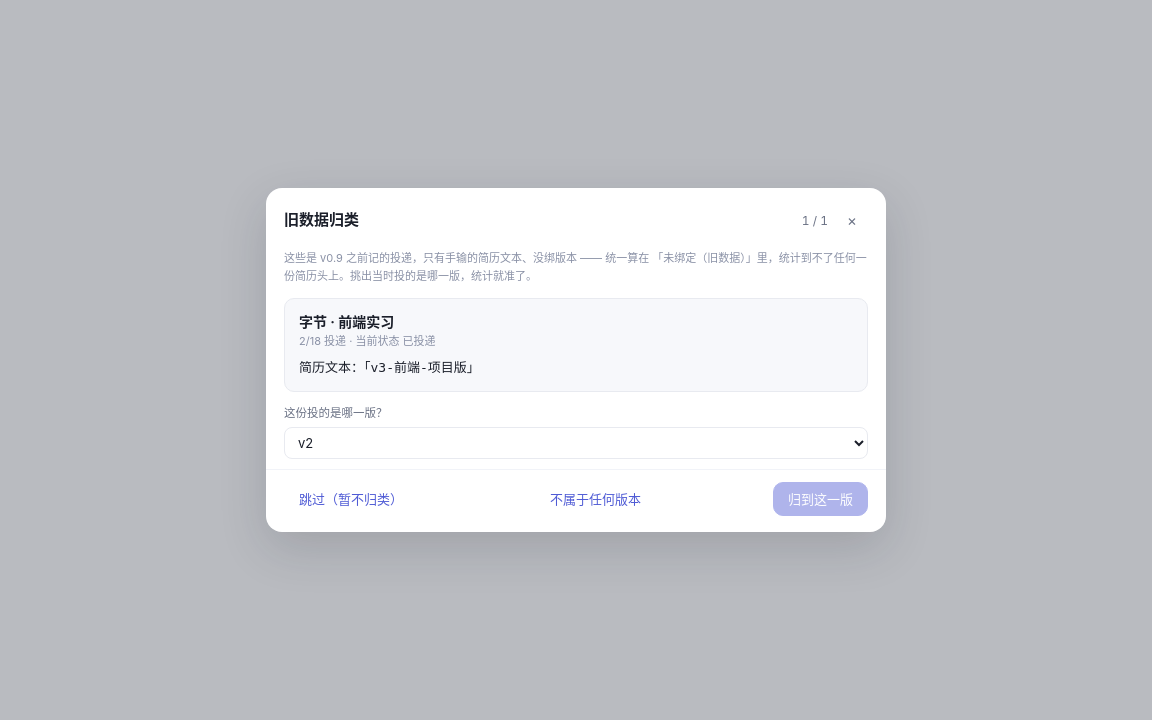
LegacyBindPanel（jsdom） › 归类前告知「显示会变成什么」：选中后写出目标版本名与原文本（F9 后的告知，不是静默覆盖）
Expected: the text "不再显示" is not shown
Select "v2" in the dropdown named "选择这一条投递对应的简历版本" at [576, 443], box [284,427,868,459]
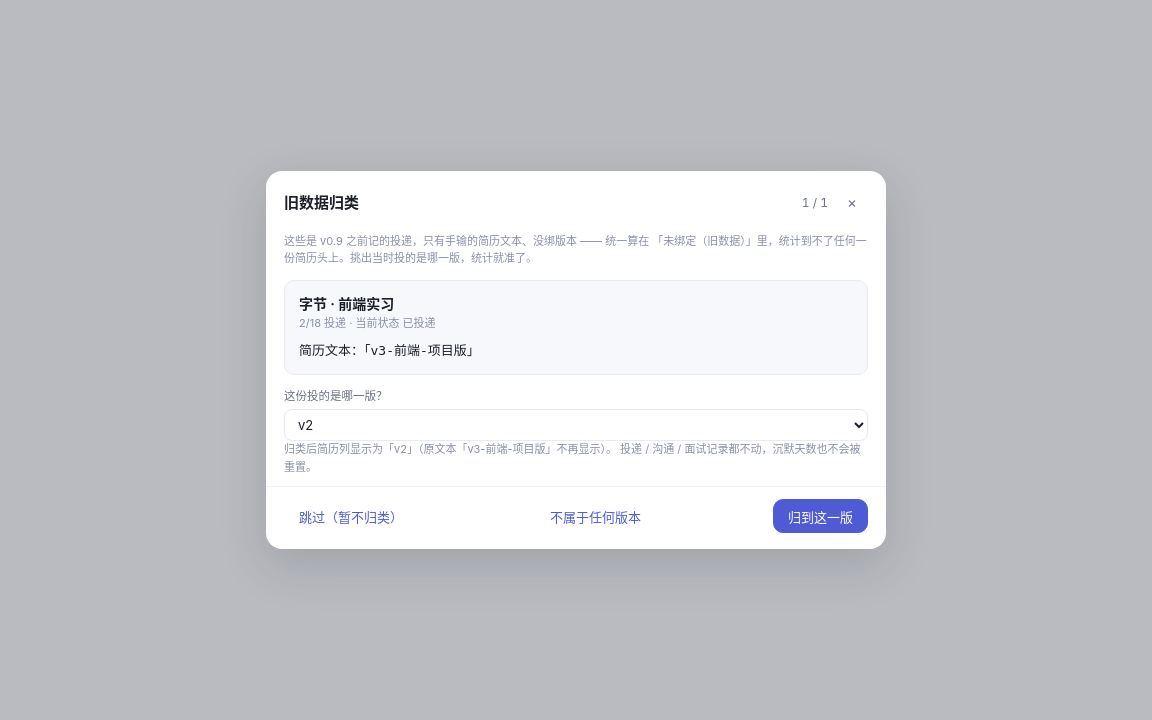
Now the text "归类后简历列显示为「v2」" is shown, box [284,441,868,476]
Now the text "原文本「v3-前端-项目版」不再显示" is shown, box [284,441,868,476]
Now the text "沉默天数也不会被重置" is shown, box [284,442,860,474]
